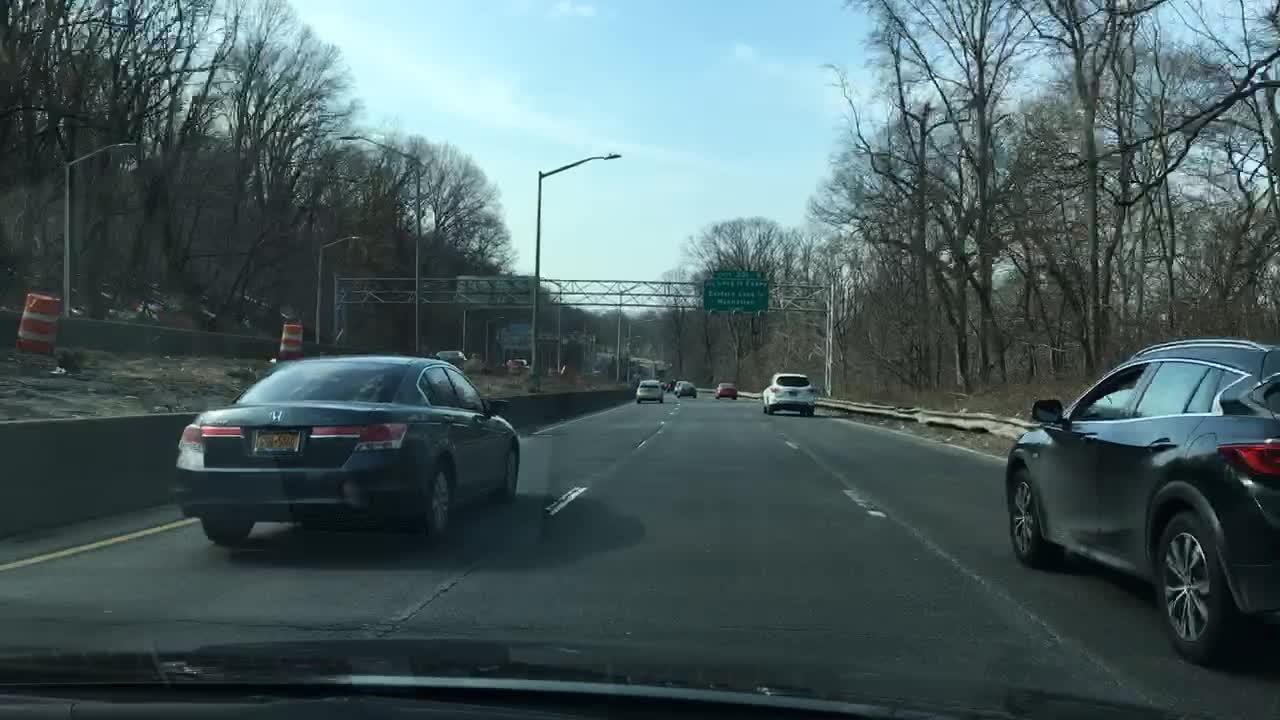Honda: (265, 407, 290, 429)
